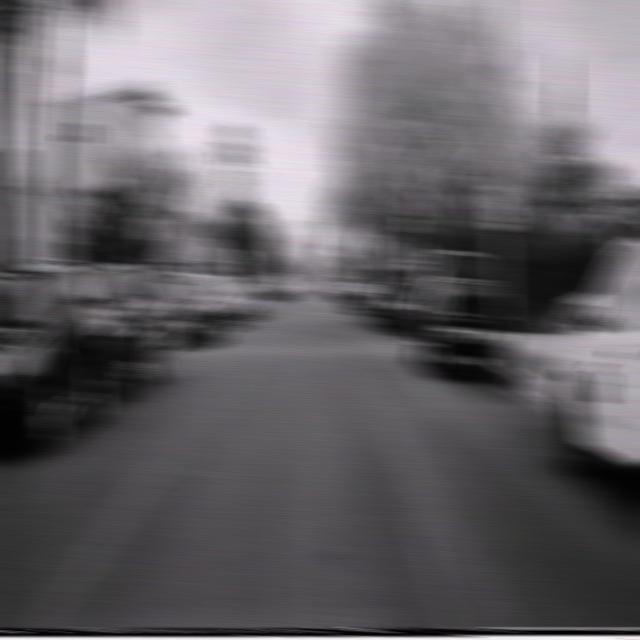speedLimit25: (484, 180, 517, 231)
